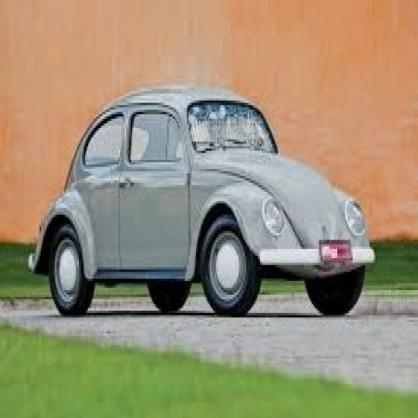car: (31, 82, 377, 319)
